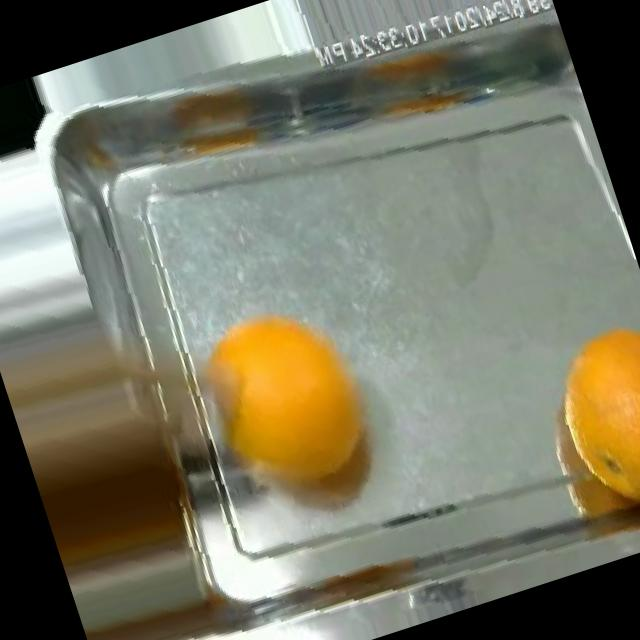Fruit: (514, 299, 640, 534), (0, 74, 65, 185)
